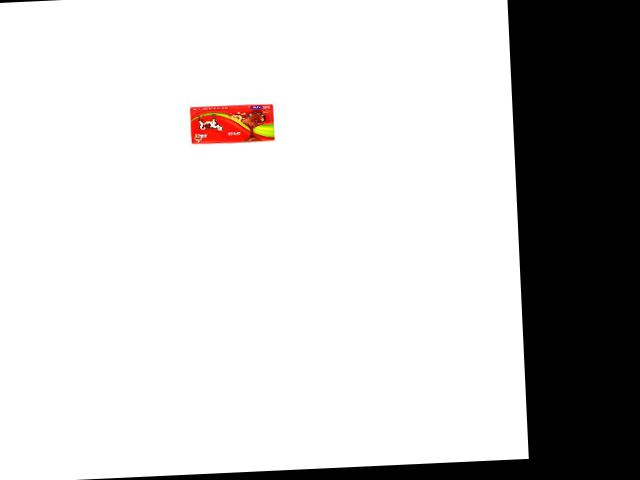chocolate: (183, 95, 276, 147)
